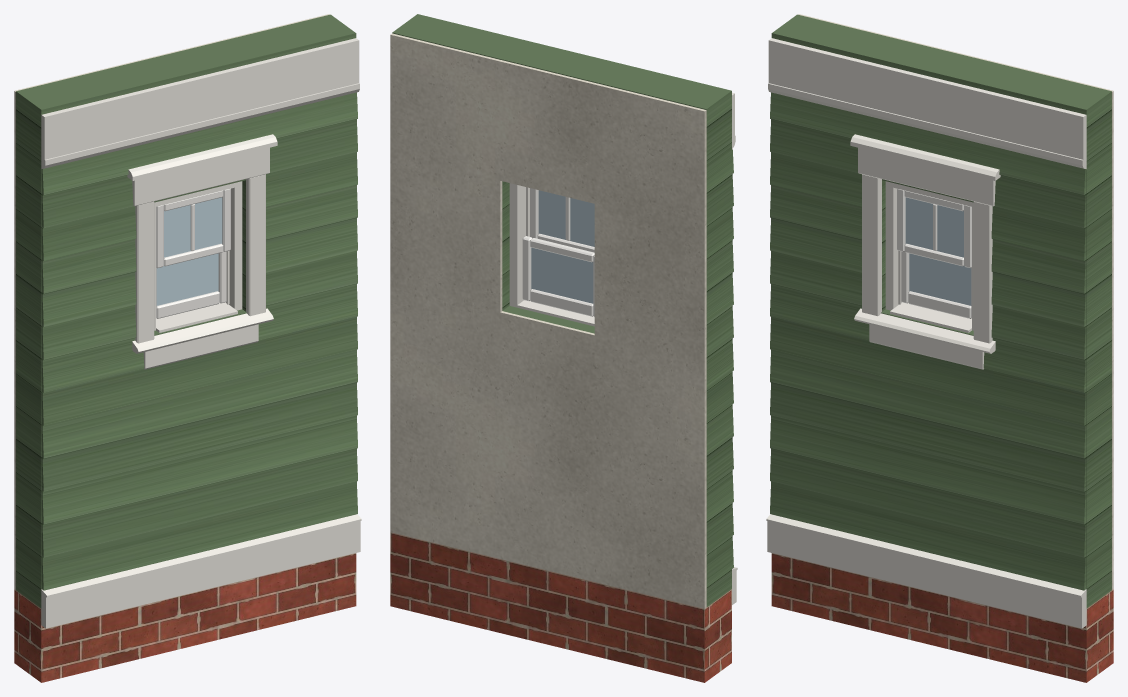
The model's file is wall_siding_small_window.glb.
3 views of the same model, side by side, from view 1: azimuth 30°, elevation 25°; view 2: azimuth 150°, elevation 25°; view 3: azimuth 330°, elevation 25° (orthographic).
Parts seen in each view (by area): view 1: wall_siding_small_window_siding, wall_siding_small_window_trim, wall_siding_small_window_brick, wall_siding_small_window_glass, wall_siding_small_window_sash, wall_siding_small_window_frame, wall_siding_small_window_plaster; view 2: wall_siding_small_window_plaster, wall_siding_small_window_brick, wall_siding_small_window_siding, wall_siding_small_window_glass, wall_siding_small_window_sash, wall_siding_small_window_frame, wall_siding_small_window_trim; view 3: wall_siding_small_window_siding, wall_siding_small_window_trim, wall_siding_small_window_brick, wall_siding_small_window_glass, wall_siding_small_window_sash, wall_siding_small_window_frame, wall_siding_small_window_plaster.
Boxes of the visible parts, <box> form: wall_siding_small_window_siding: <box>16,14,357,608</box>; wall_siding_small_window_trim: <box>41,38,361,628</box>; wall_siding_small_window_brick: <box>14,553,356,682</box>; wall_siding_small_window_glass: <box>156,197,222,305</box>; wall_siding_small_window_sash: <box>156,188,230,318</box>; wall_siding_small_window_frame: <box>154,181,242,330</box>; wall_siding_small_window_plaster: <box>14,14,329,589</box>; wall_siding_small_window_plaster: <box>390,33,706,608</box>; wall_siding_small_window_brick: <box>390,532,731,682</box>; wall_siding_small_window_siding: <box>392,14,733,606</box>; wall_siding_small_window_glass: <box>531,190,594,303</box>; wall_siding_small_window_sash: <box>522,188,594,316</box>; wall_siding_small_window_frame: <box>509,183,529,307</box>; wall_siding_small_window_trim: <box>517,92,737,604</box>; wall_siding_small_window_siding: <box>770,14,1111,608</box>; wall_siding_small_window_trim: <box>766,38,1086,628</box>; wall_siding_small_window_brick: <box>771,553,1113,682</box>; wall_siding_small_window_glass: <box>905,197,971,305</box>; wall_siding_small_window_sash: <box>897,188,971,318</box>; wall_siding_small_window_frame: <box>885,181,973,330</box>; wall_siding_small_window_plaster: <box>798,14,1113,589</box>.
Bounding box in the file's own units: 2 × 3.48 × 0.382.
Materials: 7 (3 with a texture image).
